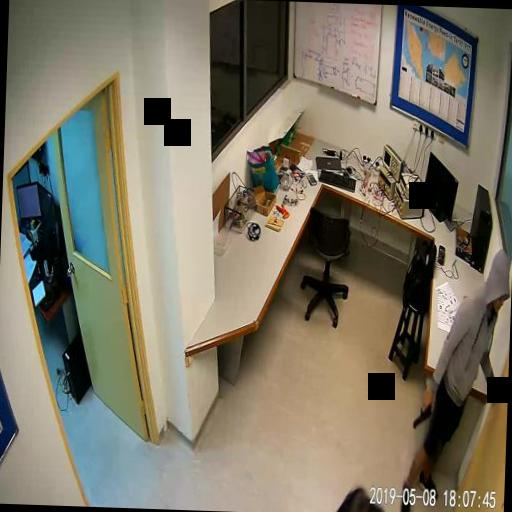Handgun: (410, 396, 432, 430)
